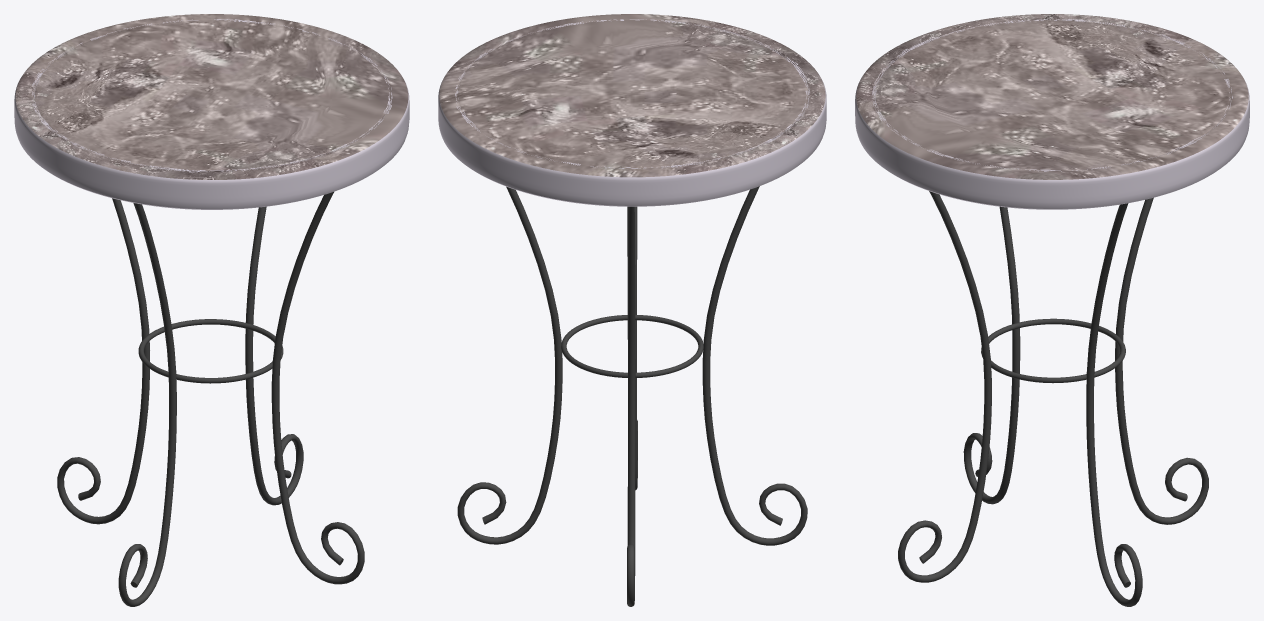
File: table5.glb
3 renders of one model, left to right at view 1: azimuth 30°, elevation 25°; view 2: azimuth 150°, elevation 25°; view 3: azimuth 270°, elevation 25°, orthographic.
Visible parts, largest first — view 1: RoundTable_revolvedSurface2detachedSurface2_8; view 2: RoundTable_revolvedSurface2detachedSurface2_8; view 3: RoundTable_revolvedSurface2detachedSurface2_8.
Boxes of the visible parts, x1,y1,x2,y2 form: RoundTable_revolvedSurface2detachedSurface2_8: (14, 14, 409, 606); RoundTable_revolvedSurface2detachedSurface2_8: (438, 14, 826, 606); RoundTable_revolvedSurface2detachedSurface2_8: (855, 14, 1249, 606).
Size of the model in its own units: 1.35 by 1.73 by 1.35.
Materials: 3 (1 with a texture image).
